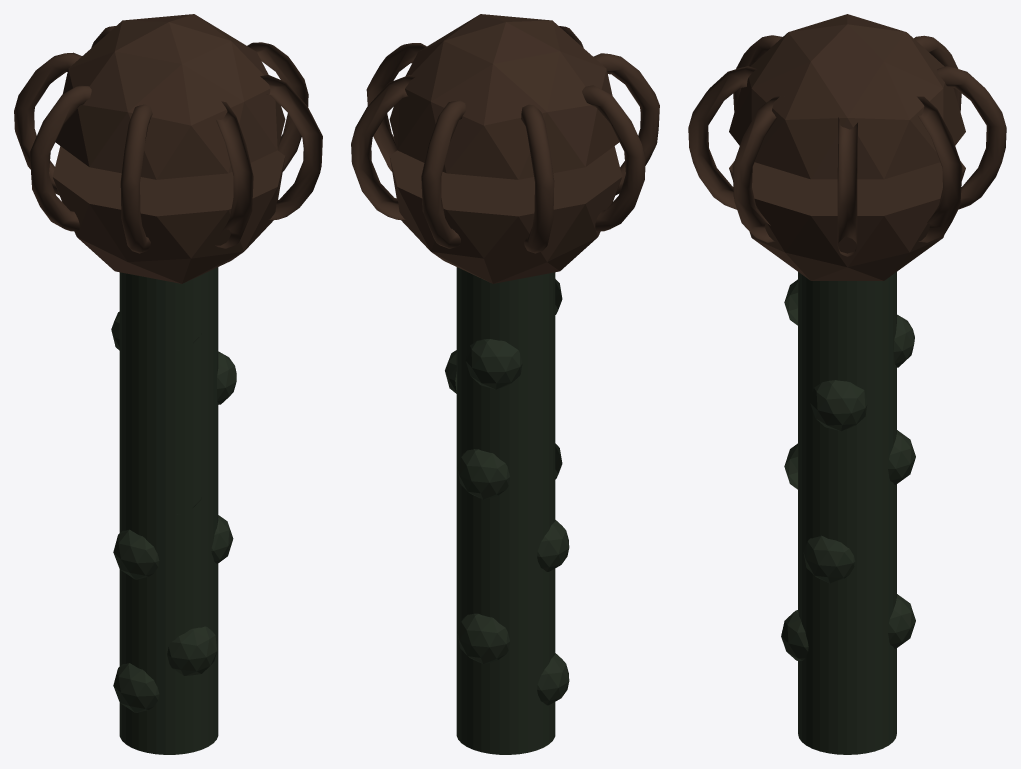
File: BlackTarDroolerModel.fbx
The picture shows the model from 3 angles, left to right: view 1: azimuth 30°, elevation 25°; view 2: azimuth 150°, elevation 25°; view 3: azimuth 270°, elevation 25°; orthographic projection.
Visible parts, largest first — view 1: Head, Stem; view 2: Head, Stem; view 3: Head, Stem.
Part boxes in pixels (bbox=[...]): Head: bbox=[14, 14, 322, 283]; Stem: bbox=[111, 267, 236, 754]; Head: bbox=[351, 14, 659, 283]; Stem: bbox=[445, 267, 569, 754]; Head: bbox=[688, 14, 1006, 280]; Stem: bbox=[781, 272, 915, 754].
Size of the model in its own units: 161 by 396 by 161.
